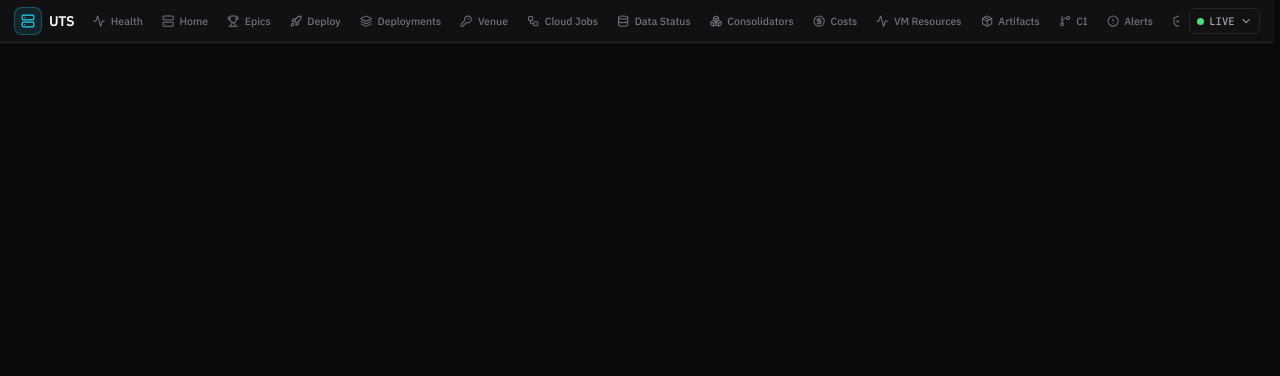
Test: Header › shows GCS Fuse badge when gcs_fuse is active
This screenshot has width=1280, height=376.
Click the button with test id "status-menu-trigger" at (1224, 21), box [1189, 8, 1260, 34]
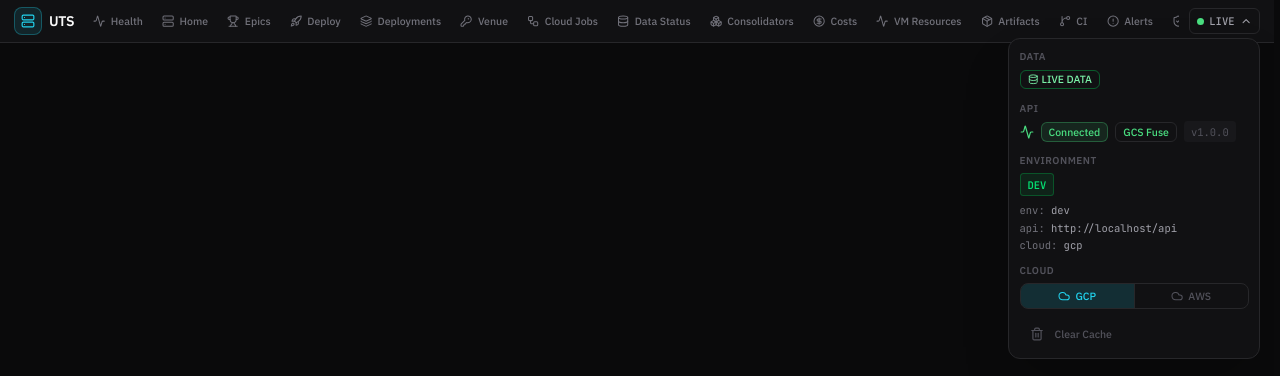
Expected: the text "GCS Fuse" is shown, [1115, 122, 1177, 142]
